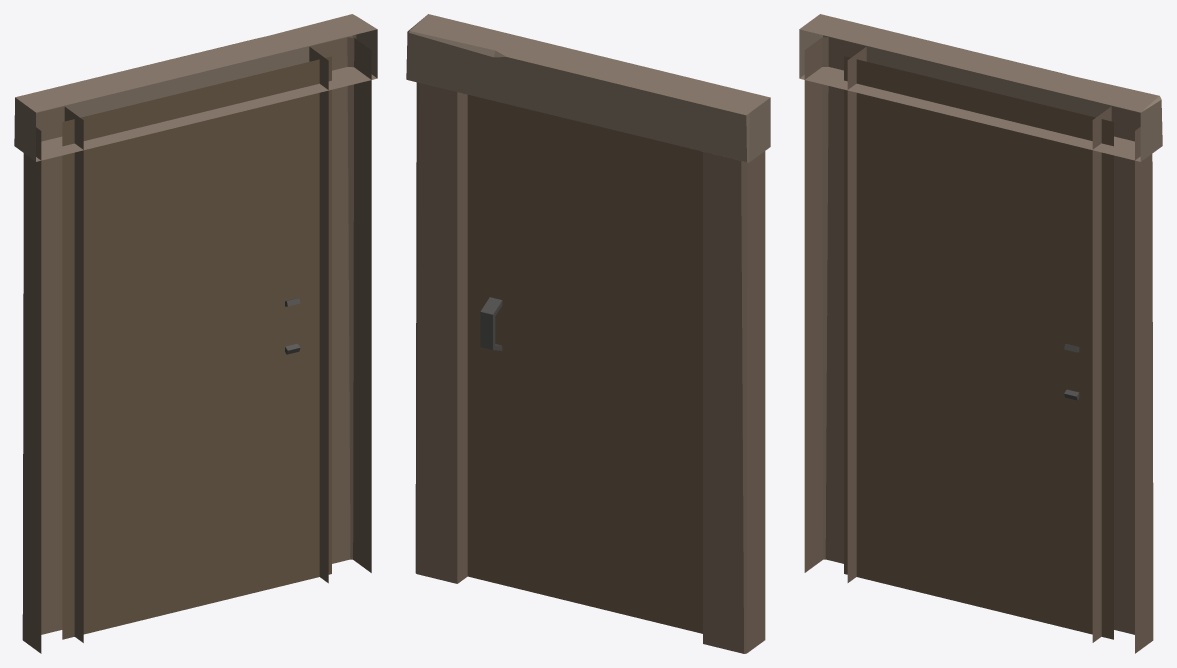
Rendered from BG_door_02.fbx.
The picture shows the model from 3 angles, left to right: view 1: azimuth 30°, elevation 25°; view 2: azimuth 150°, elevation 25°; view 3: azimuth 330°, elevation 25°; orthographic projection.
Visible parts, largest first — view 1: BG_door_02; view 2: BG_door_02; view 3: BG_door_02.
Boxes of the visible parts, left/top/right/bottom form: BG_door_02: left=14, top=14, right=377, bottom=653; BG_door_02: left=406, top=14, right=770, bottom=653; BG_door_02: left=799, top=14, right=1162, bottom=653.
Bounding box in the file's own units: 20.5 × 31.13 × 2.35.
